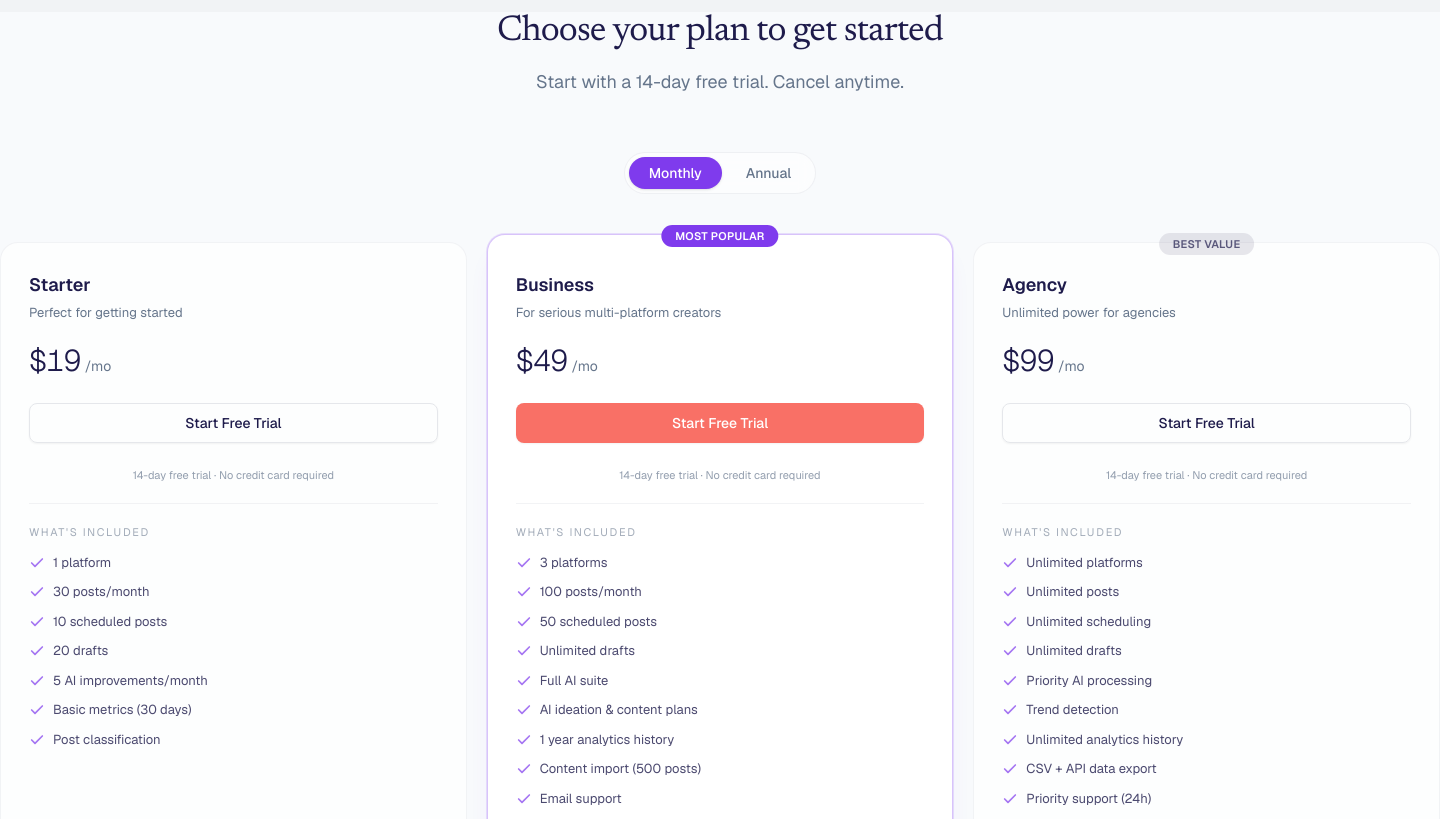
Test: PricingPage › new subscriber (no subscription) › toggles to yearly prices
What coordinates should you click on to do the following:
click the button "Annual"
I would click on:
 (768, 173)
Its box is [726, 157, 811, 189].
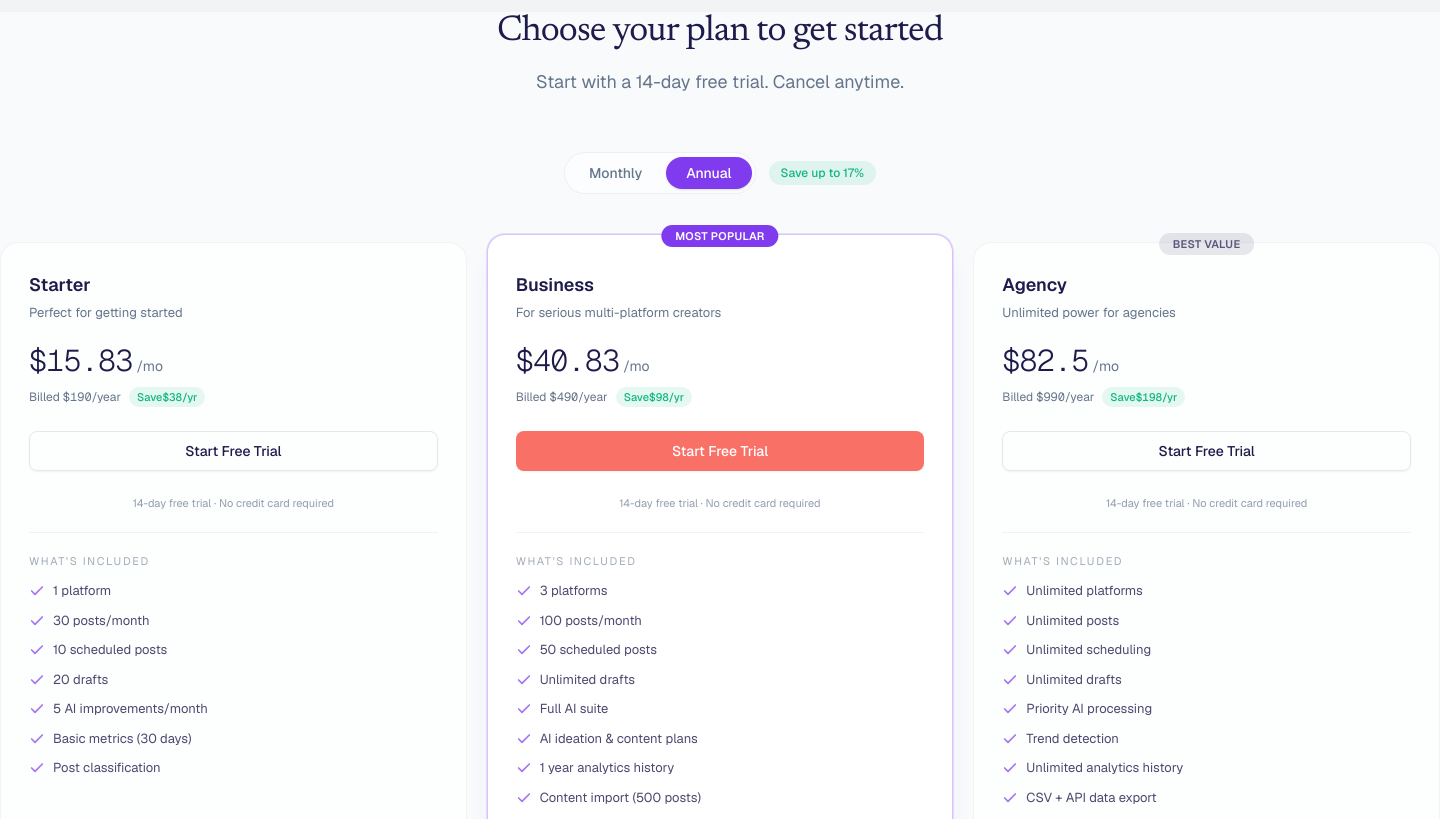
Expected: the text "$15.83" is shown, [29, 342, 132, 378]
Expected: the text "$40.83" is shown, [516, 342, 619, 378]
Expected: the text "$82.5" is shown, [1002, 342, 1089, 378]
